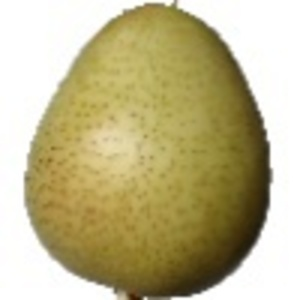pera: (23, 1, 273, 300)
